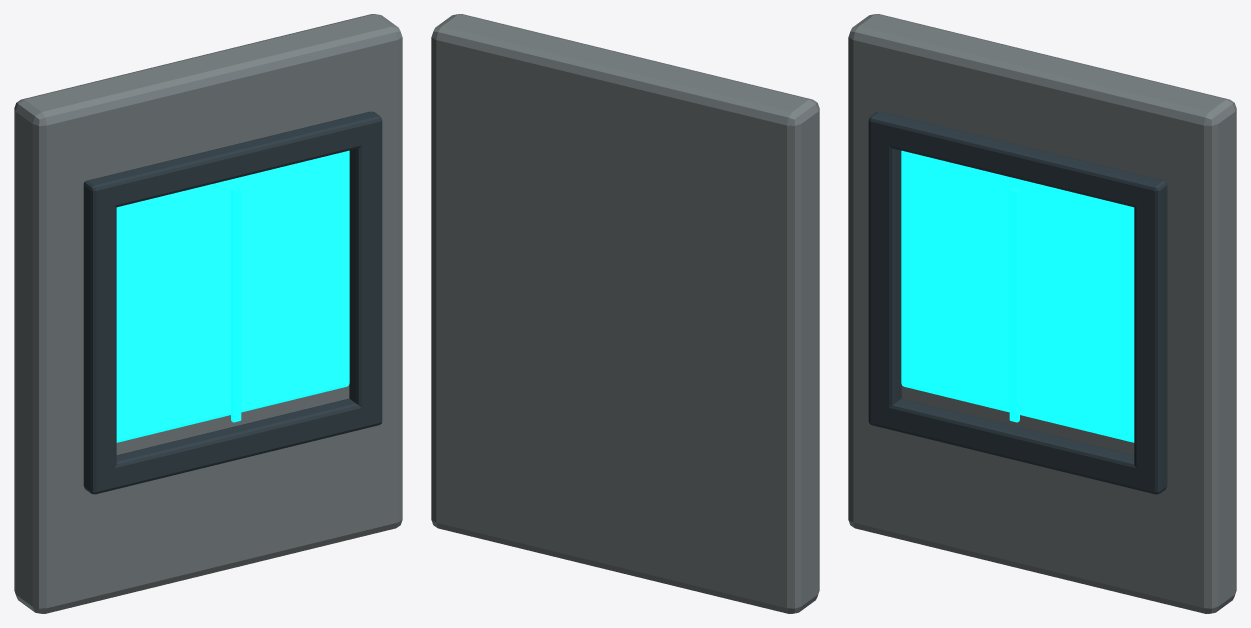
The model's file is Window-Module.glb.
3 renders of one model, left to right at view 1: azimuth 30°, elevation 25°; view 2: azimuth 150°, elevation 25°; view 3: azimuth 330°, elevation 25°, orthographic.
Visible parts, largest first — view 1: Window_WallPanel, Window_Glass, Window_Frame_H.001, Window_Frame_V, Window_Frame_H, Window_Frame_V.001, Window_CyanMullion; view 2: Window_WallPanel; view 3: Window_WallPanel, Window_Glass, Window_Frame_H.001, Window_Frame_V.001, Window_Frame_H, Window_Frame_V, Window_CyanMullion.
Boxes of the visible parts, x1,y1,x2,y2 form: Window_WallPanel: [14, 14, 402, 613]; Window_Glass: [116, 150, 349, 442]; Window_Frame_H.001: [83, 111, 382, 210]; Window_Frame_V: [83, 190, 116, 487]; Window_Frame_H: [83, 398, 382, 494]; Window_Frame_V.001: [349, 125, 382, 417]; Window_CyanMullion: [231, 188, 241, 422]; Window_WallPanel: [431, 14, 819, 613]; Window_WallPanel: [848, 14, 1236, 613]; Window_Glass: [901, 150, 1134, 442]; Window_Frame_H.001: [868, 111, 1167, 209]; Window_Frame_V.001: [1134, 190, 1167, 487]; Window_Frame_H: [868, 398, 1167, 494]; Window_Frame_V: [868, 125, 901, 422]; Window_CyanMullion: [1009, 188, 1019, 422].
Size of the model in its own units: 2 by 2.6 by 0.41.
